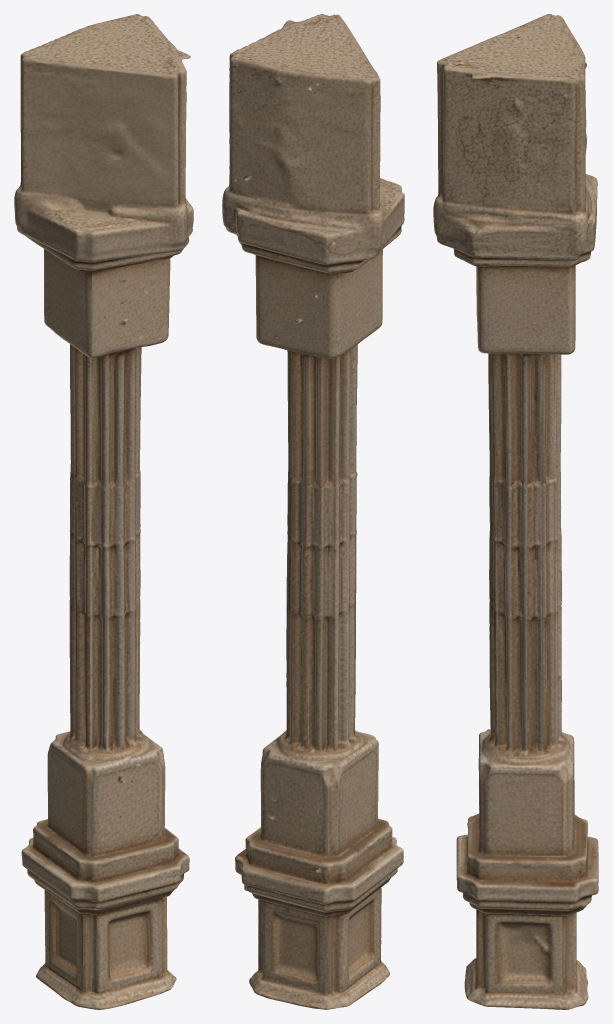
File: reloj.glb
3 views of the same model, side by side, from view 1: azimuth 30°, elevation 25°; view 2: azimuth 150°, elevation 25°; view 3: azimuth 270°, elevation 25° (orthographic).
Visible parts, largest first — view 1: tripo_node_c28b8ef3-96a5-4217-8817-8e21a4432e4a; view 2: tripo_node_c28b8ef3-96a5-4217-8817-8e21a4432e4a; view 3: tripo_node_c28b8ef3-96a5-4217-8817-8e21a4432e4a.
Boxes of the visible parts, bbox=[...] form: tripo_node_c28b8ef3-96a5-4217-8817-8e21a4432e4a: bbox=[14, 14, 193, 1009]; tripo_node_c28b8ef3-96a5-4217-8817-8e21a4432e4a: bbox=[222, 14, 404, 1009]; tripo_node_c28b8ef3-96a5-4217-8817-8e21a4432e4a: bbox=[433, 14, 598, 1009].
Bounding box in the file's own units: 0.1657 × 1 × 0.1593.
Materials: 1 (1 with a texture image).
